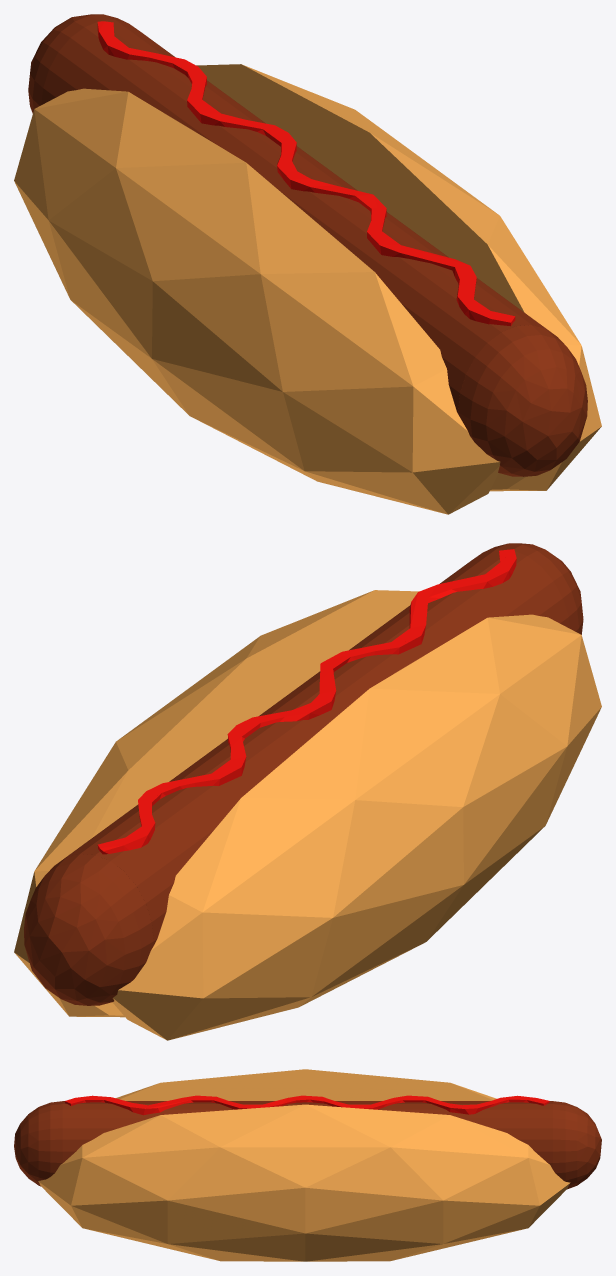
The model's file is Hot Dog 2.obj.
The picture shows the model from 3 angles, top to bottom: view 1: azimuth 30°, elevation 25°; view 2: azimuth 150°, elevation 25°; view 3: azimuth 270°, elevation 25°; orthographic projection. The views are drawn at different scales.
Parts seen in each view (by area): view 1: Hot_Dog_2_hotdog_4; view 2: Hot_Dog_2_hotdog_4; view 3: Hot_Dog_2_hotdog_4.
Part boxes in pixels (x1=…): Hot_Dog_2_hotdog_4: x1=14, y1=14, x2=601, y2=514; Hot_Dog_2_hotdog_4: x1=14, y1=543, x2=601, y2=1040; Hot_Dog_2_hotdog_4: x1=14, y1=1069, x2=601, y2=1261.
Bounding box in the file's own units: 0.4538 × 0.3689 × 1.26.
